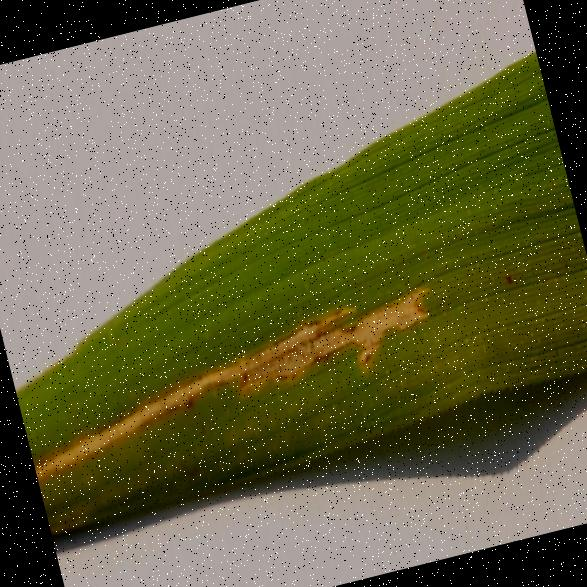Bacteria_Leaf_Blight: (49, 255, 456, 468)
